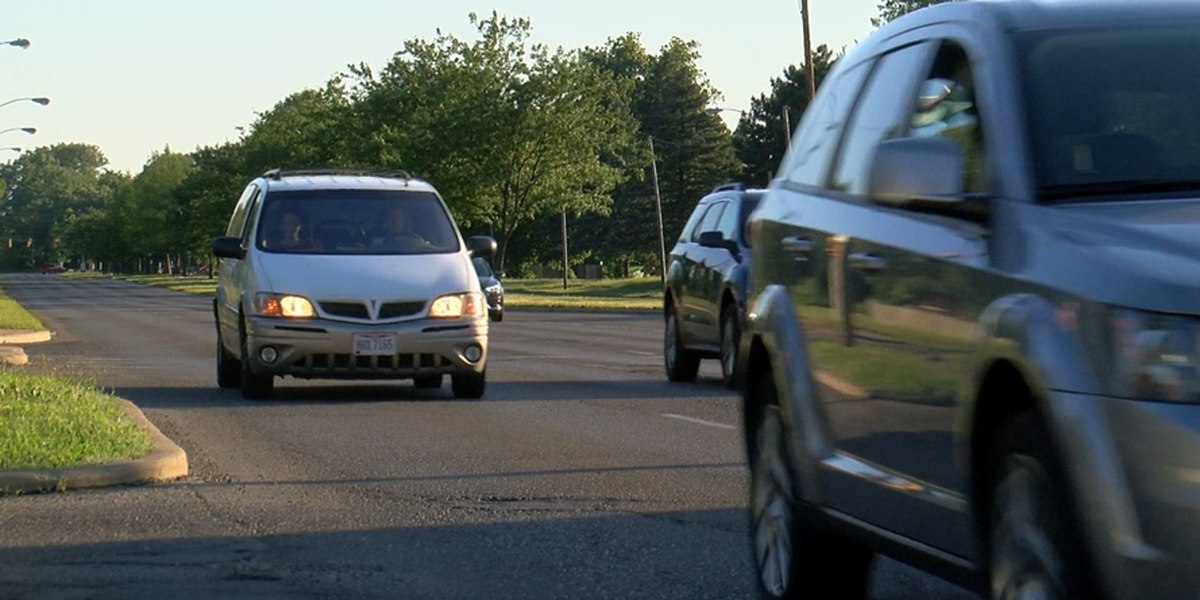license plate: (347, 329, 407, 359)
